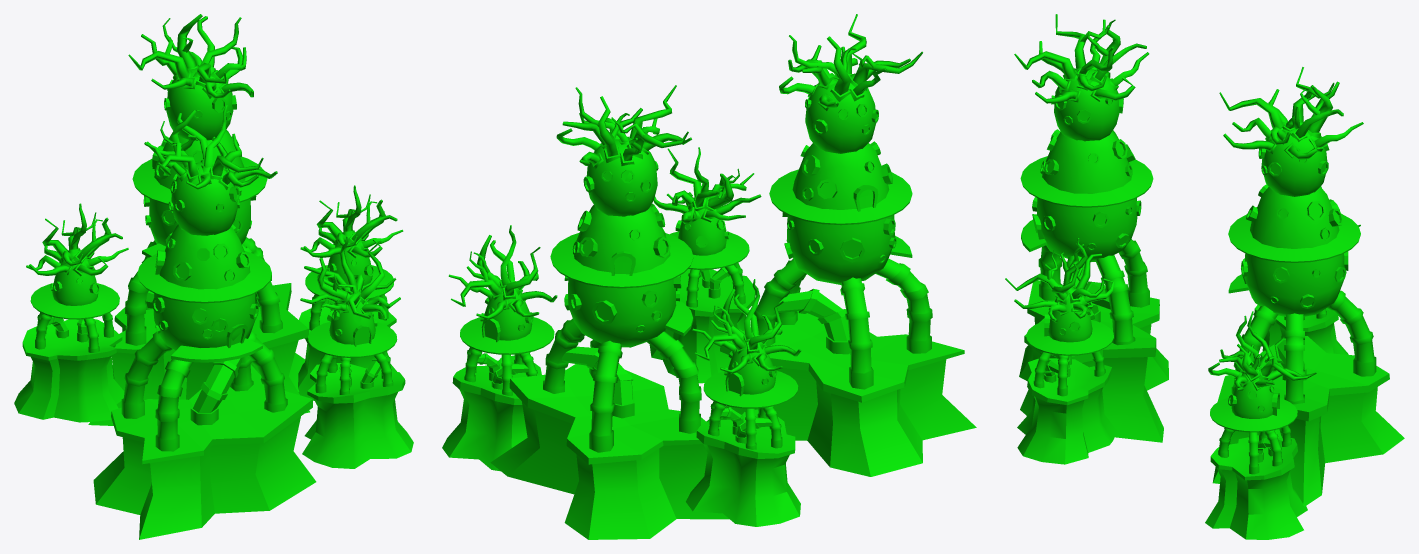
Rendered from HIVE_PLACEMENT.fbx.
The picture shows the model from 3 angles, left to right: view 1: azimuth 30°, elevation 25°; view 2: azimuth 150°, elevation 25°; view 3: azimuth 270°, elevation 25°; orthographic projection. The views are drawn at different scales.
Parts seen in each view (by area): view 1: HIVE_B_PLACEMENT1, HIVE_B_PLACEMENT, HIVE_A_PLACEMENT, HIVE_A_PLACEMENT2, HIVE_A_PLACEMENT1; view 2: HIVE_B_PLACEMENT, HIVE_B_PLACEMENT1, HIVE_A_PLACEMENT2, HIVE_A_PLACEMENT1, HIVE_A_PLACEMENT; view 3: HIVE_B_PLACEMENT, HIVE_B_PLACEMENT1, HIVE_A_PLACEMENT, HIVE_A_PLACEMENT1, HIVE_A_PLACEMENT2.
Boxes of the visible parts, x1,y1,x2,y2 form: HIVE_B_PLACEMENT1: [93, 105, 316, 539]; HIVE_B_PLACEMENT: [88, 14, 309, 425]; HIVE_A_PLACEMENT: [300, 236, 413, 468]; HIVE_A_PLACEMENT2: [14, 203, 128, 422]; HIVE_A_PLACEMENT1: [298, 185, 403, 400]; HIVE_B_PLACEMENT: [490, 85, 729, 539]; HIVE_B_PLACEMENT1: [706, 14, 976, 476]; HIVE_A_PLACEMENT2: [686, 279, 800, 526]; HIVE_A_PLACEMENT1: [442, 225, 557, 471]; HIVE_A_PLACEMENT: [649, 147, 761, 383]; HIVE_B_PLACEMENT: [1212, 67, 1404, 507]; HIVE_B_PLACEMENT1: [1014, 14, 1168, 442]; HIVE_A_PLACEMENT: [1005, 238, 1117, 464]; HIVE_A_PLACEMENT1: [1205, 311, 1316, 539]; HIVE_A_PLACEMENT2: [1254, 224, 1360, 360].
Bounding box in the file's own units: 58.18 × 57.23 × 54.45.
